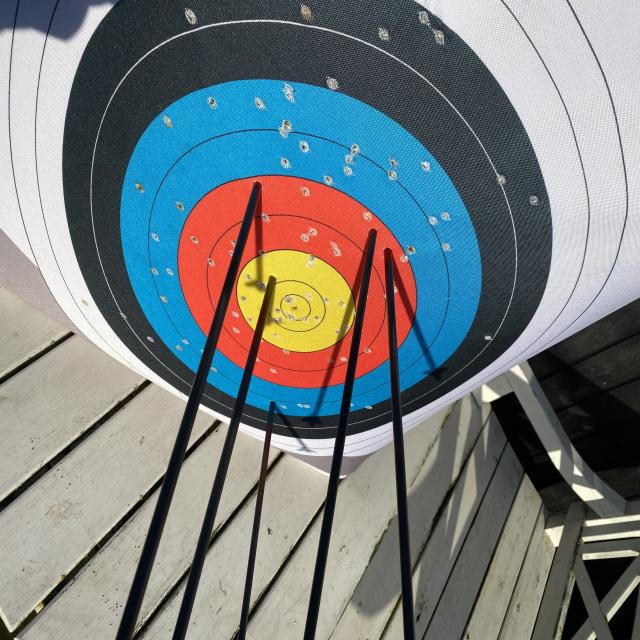Arrow_Blue: (263, 392, 281, 419)
Arrow_Red: (243, 174, 277, 205), (378, 243, 402, 271), (362, 215, 378, 250)
Arrow_Yellow: (261, 268, 287, 302)
